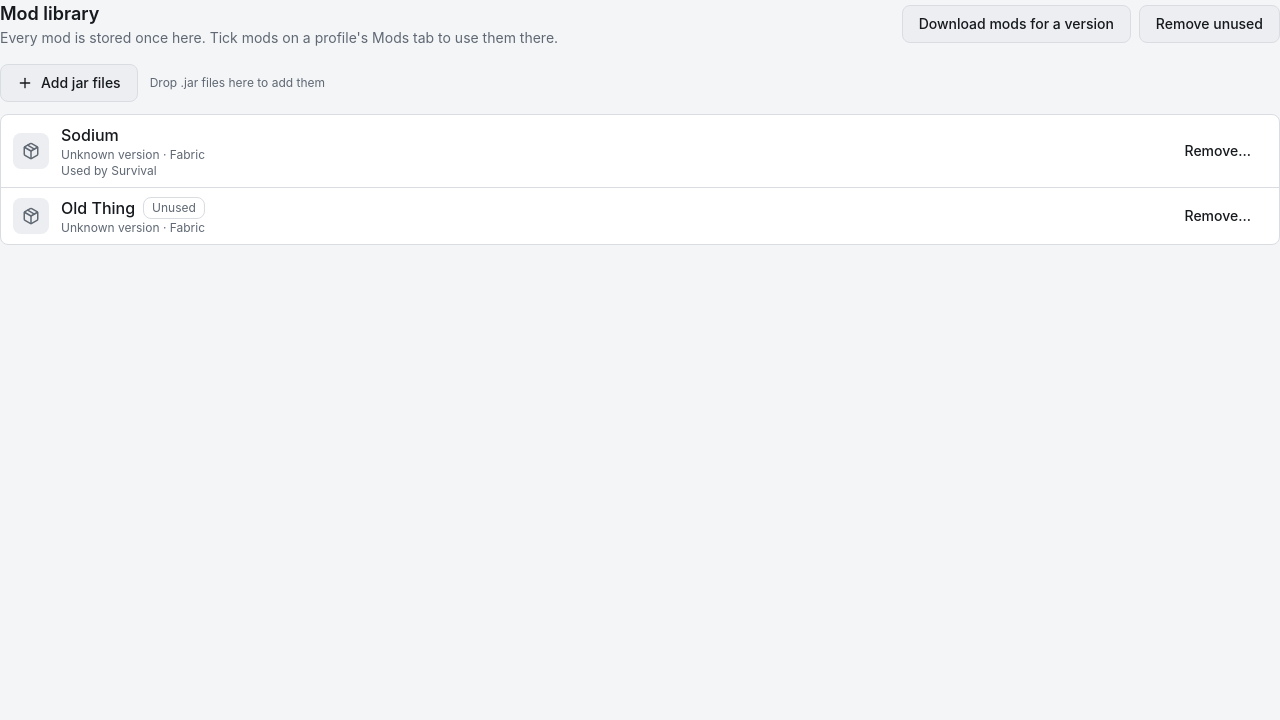
ModLibraryPage › asks before removing unused mods
Check: the text "Old Thing" is shown, box [61,196,135,220]
Click the button "Remove unused". click: point(1209, 24)
box: [1139,5,1279,43]
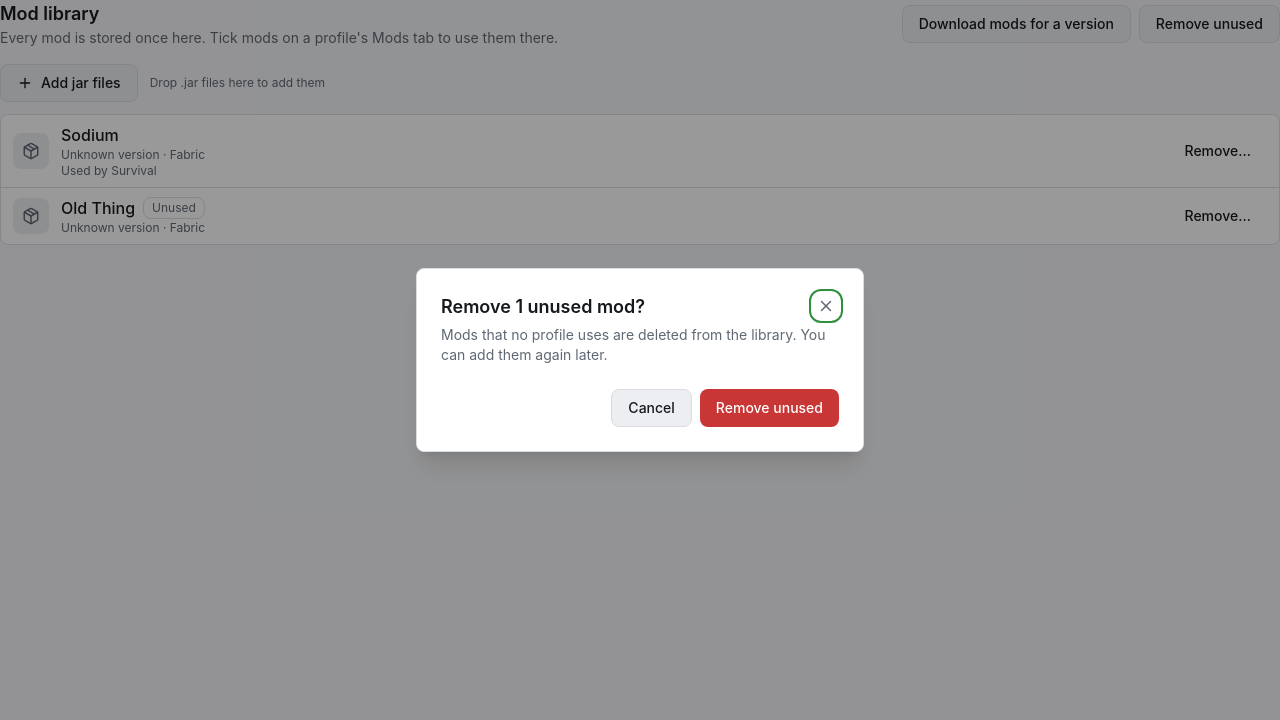
Check: the heading "Remove 1 unused mod?" is shown, box [441,293,645,321]
Click the button "Remove unused". click: point(769, 408)
box: [700,389,839,427]
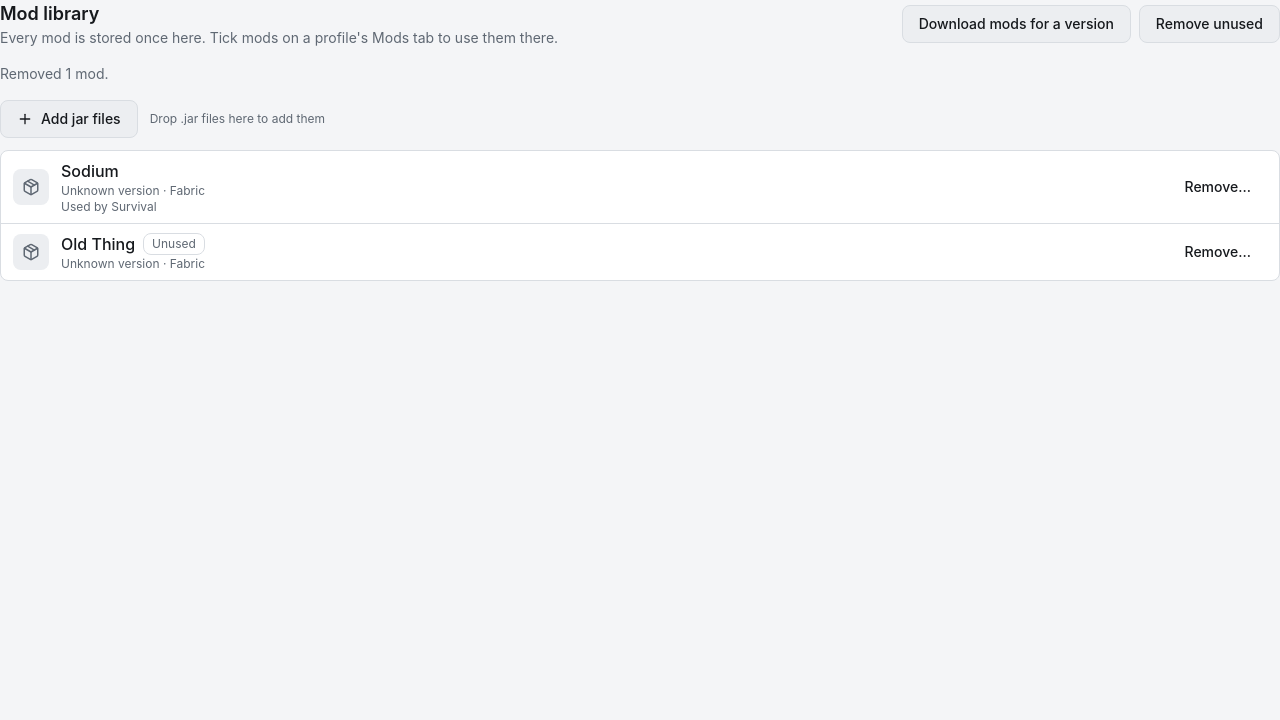
Check: the text "Removed 1 mod." is shown, box [0,65,108,82]
